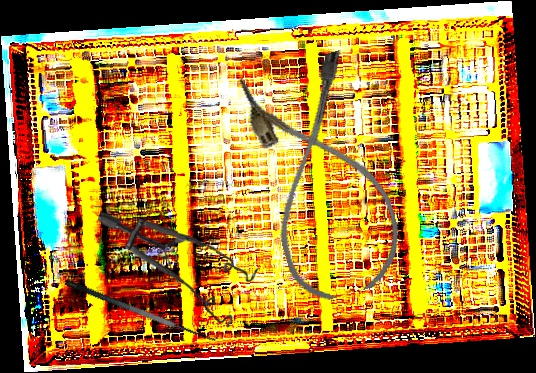Cannula: (235, 48, 412, 308)
Spatula Surgical: (64, 266, 222, 349)
Speculum: (92, 211, 262, 330)
